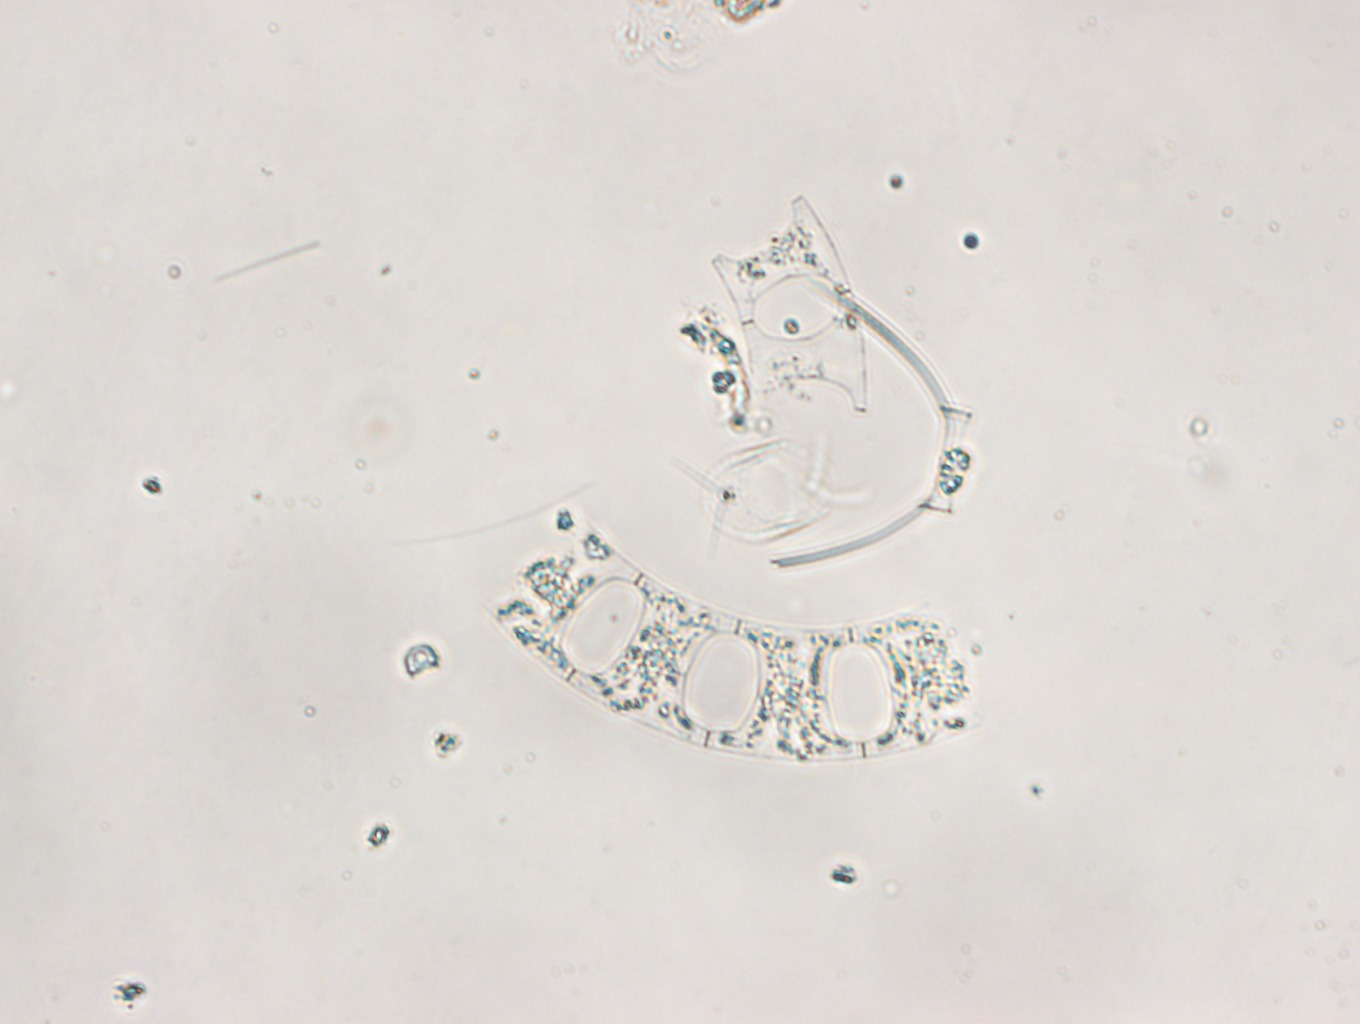chaetoceros: (771, 281, 976, 566)
eucampia: (492, 521, 984, 763), (707, 191, 868, 425)
